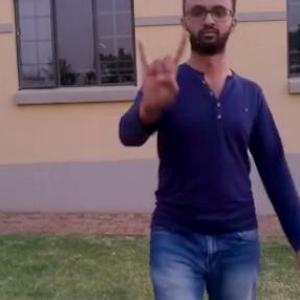takeoff-hand: (130, 25, 190, 116)
